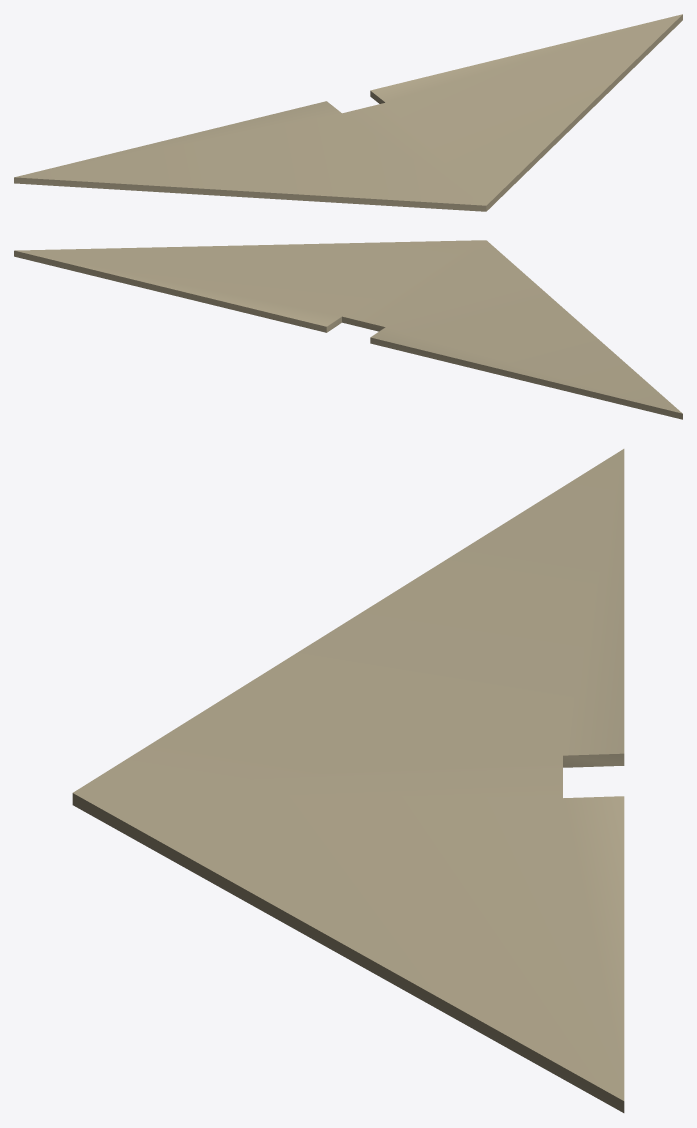
File: breach_wedge_a_14x10.glb
3 views of the same model, one above another, from view 1: azimuth 30°, elevation 25°; view 2: azimuth 150°, elevation 25°; view 3: azimuth 270°, elevation 25° (orthographic). The views are drawn at different scales.
Parts seen in each view (by area): view 1: WedgeA; view 2: WedgeA; view 3: WedgeA.
Part boxes in pixels (x1,y1,x2,y2): WedgeA: (14, 14, 682, 211); WedgeA: (14, 240, 682, 419); WedgeA: (72, 449, 624, 1112).
Size of the model in its own units: 13.83 by 0.2978 by 4.94.
